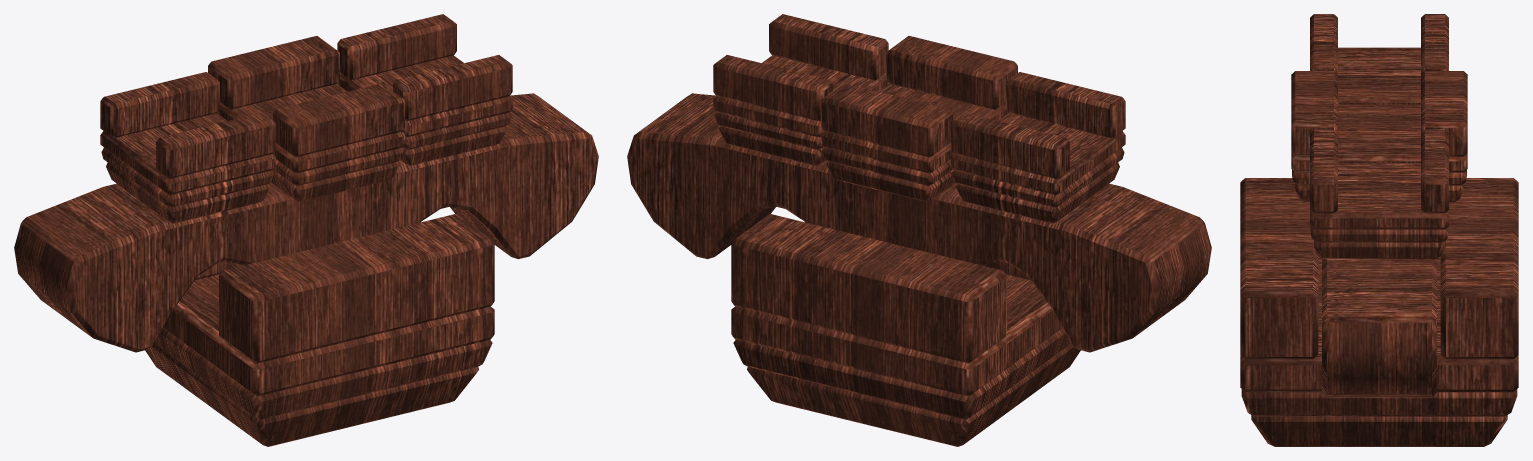
File: dougong-yidousansheng.glb
3 renders of one model, left to right at view 1: azimuth 30°, elevation 25°; view 2: azimuth 150°, elevation 25°; view 3: azimuth 270°, elevation 25°, orthographic.
Parts seen in each view (by area): view 1: zuodou, zhengxin_guagong, sheng_zhong, sheng_zuo, sheng_you; view 2: zuodou, zhengxin_guagong, sheng_zhong, sheng_zuo, sheng_you; view 3: zuodou, zhengxin_guagong, sheng_you, sheng_zhong, sheng_zuo.
Boxes of the visible parts, x1,y1,x2,y2 form: zuodou: (145,214,494,446); zhengxin_guagong: (14,93,598,352); sheng_zhong: (208,36,404,201); sheng_zuo: (100,72,275,223); sheng_you: (337,14,512,165); zuodou: (731,214,1080,446); zhengxin_guagong: (627,93,1211,352); sheng_zhong: (821,36,1017,201); sheng_zuo: (950,72,1125,223); sheng_you: (713,14,888,165); zuodou: (1240,178,1518,446); zhengxin_guagong: (1322,259,1436,397); sheng_you: (1310,129,1448,259); sheng_zhong: (1291,71,1467,202); sheng_zuo: (1310,14,1448,104).
Size of the model in its own units: 0.66 by 0.364 by 0.3.
Materials: 1 (1 with a texture image).
